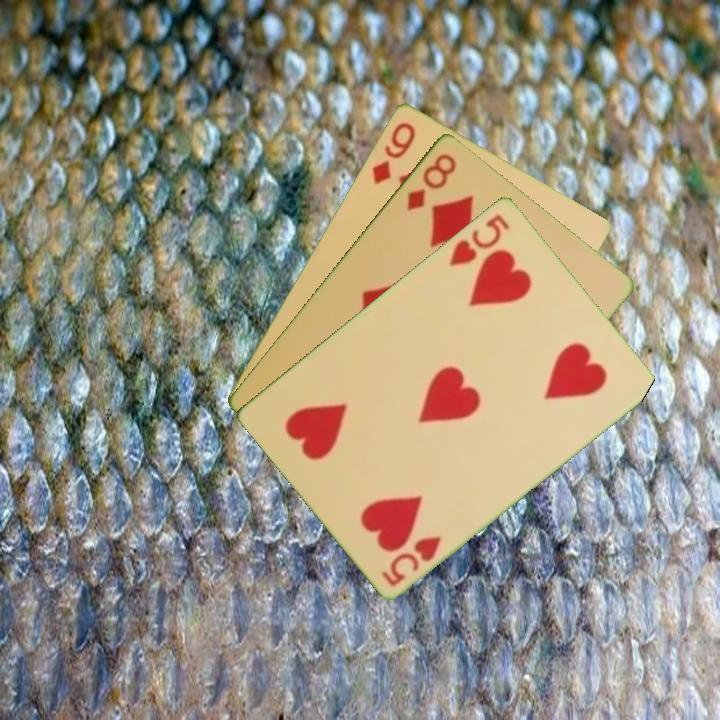5h: (445, 209, 513, 269), (378, 531, 445, 589)
8d: (403, 149, 459, 213)
9d: (368, 118, 419, 187)
